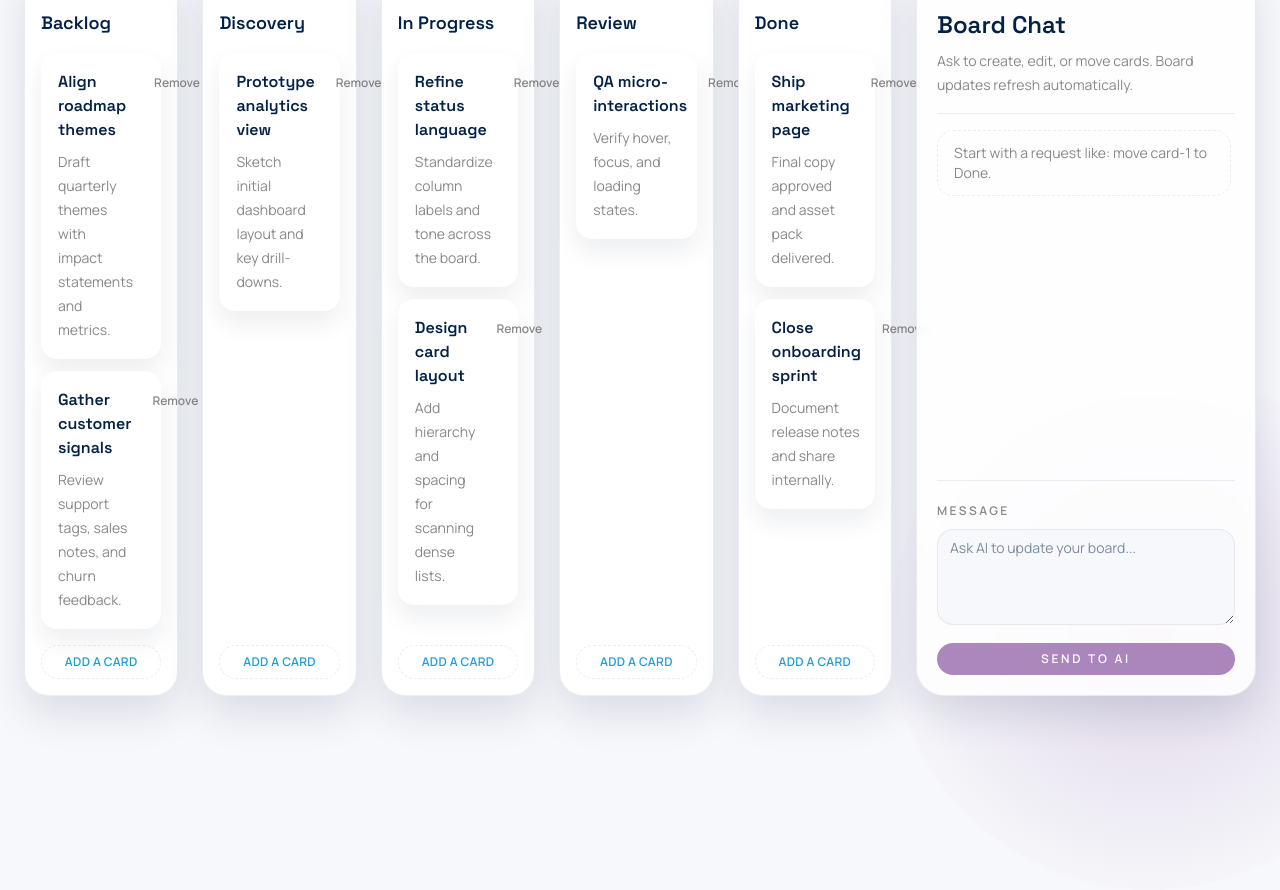
KanbanBoard › renders chat sidebar and returns assistant response
(page scrolled)
Expected: the heading "Board Chat" is shown, [937,9,1066,40]
Type "What should I do next?" into the text box labelled "Message" at {"x": 1086, "y": 577}, box [937,529,1235,625]
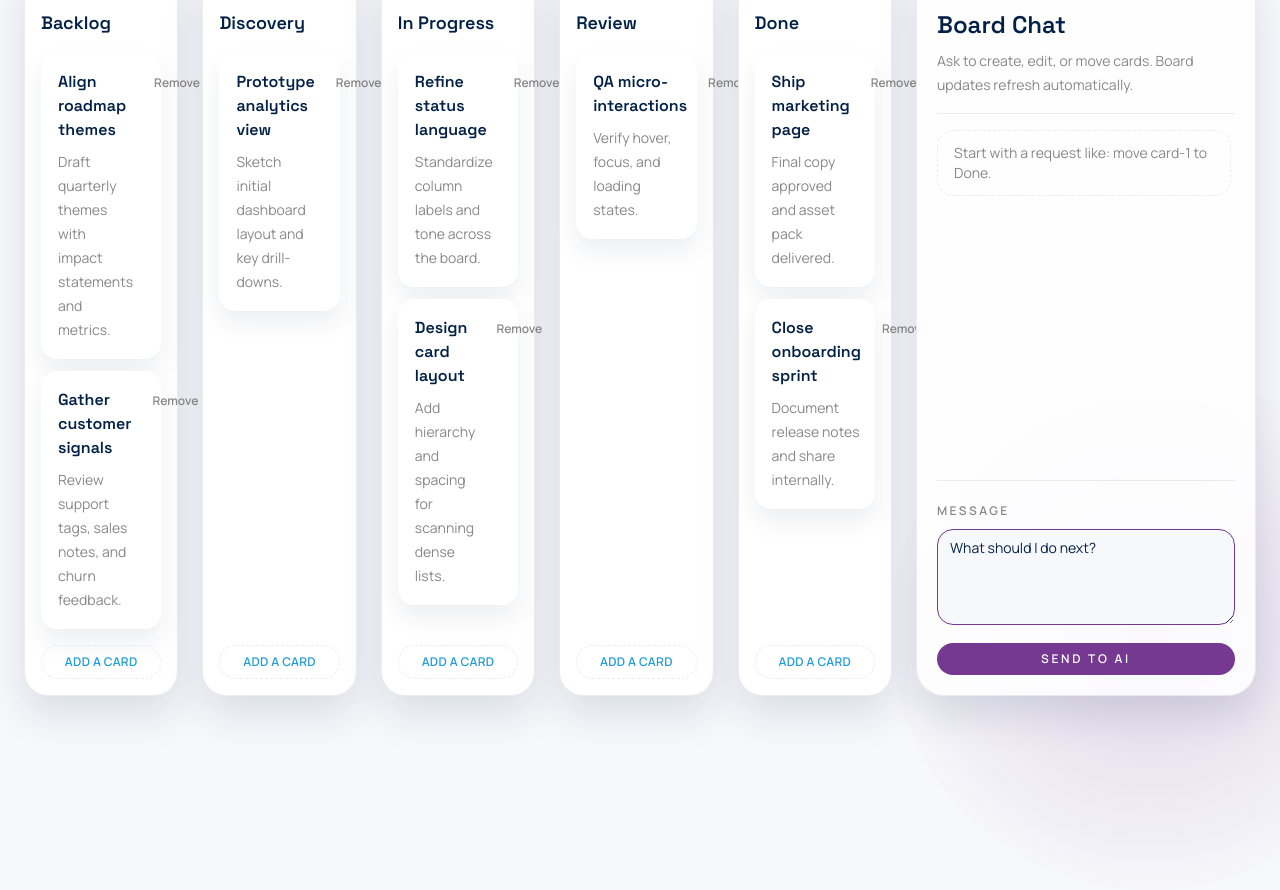
Click the button "Send to AI" at {"x": 1086, "y": 659}, box [937,643,1235,675]
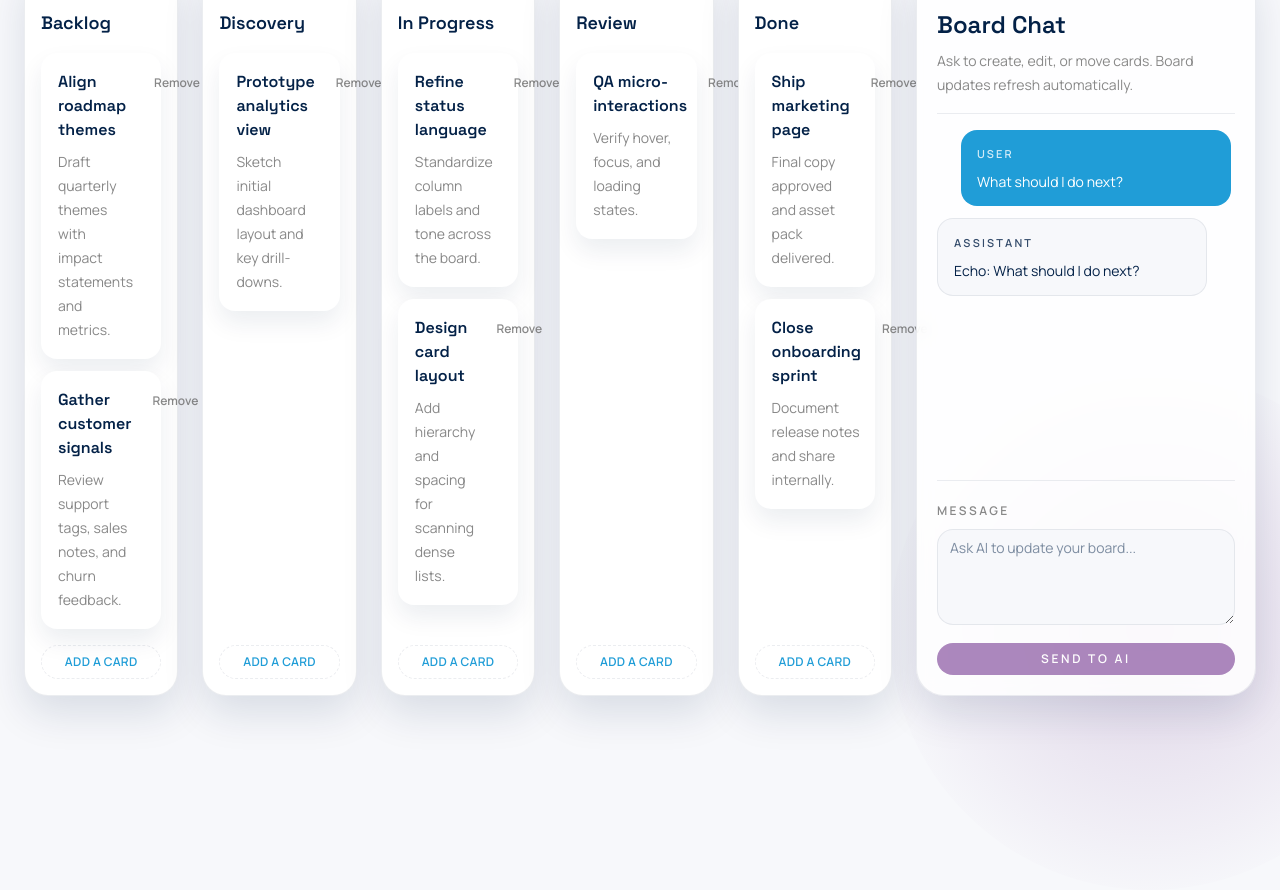
Expected: the text "Echo: What should I do next?" is shown, [954,261,1140,280]
